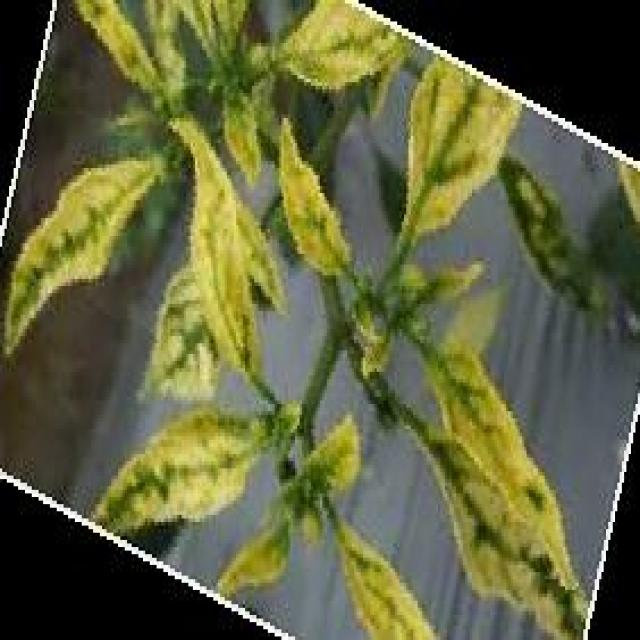Rust: (417, 425, 589, 631)
